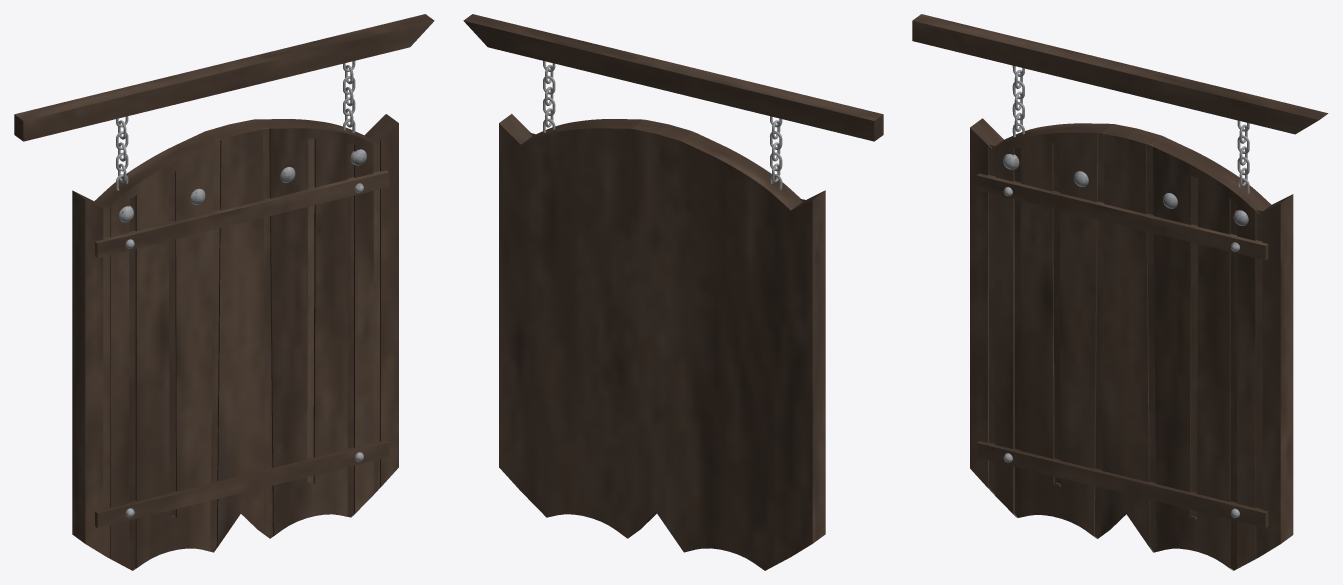
File: sign Board_Texture.fbx
The picture shows the model from 3 angles, left to right: view 1: azimuth 30°, elevation 25°; view 2: azimuth 150°, elevation 25°; view 3: azimuth 330°, elevation 25°; orthographic projection.
Parts seen in each view (by area): view 1: ironbot; view 2: ironbot; view 3: ironbot.
Boxes of the visible parts, x1=… form: ironbot: x1=14, y1=14, x2=434, y2=570; ironbot: x1=463, y1=14, x2=883, y2=570; ironbot: x1=912, y1=14, x2=1328, y2=570.
Size of the model in its own units: 408 by 451 by 30.79.
1 material, 1 textured.
